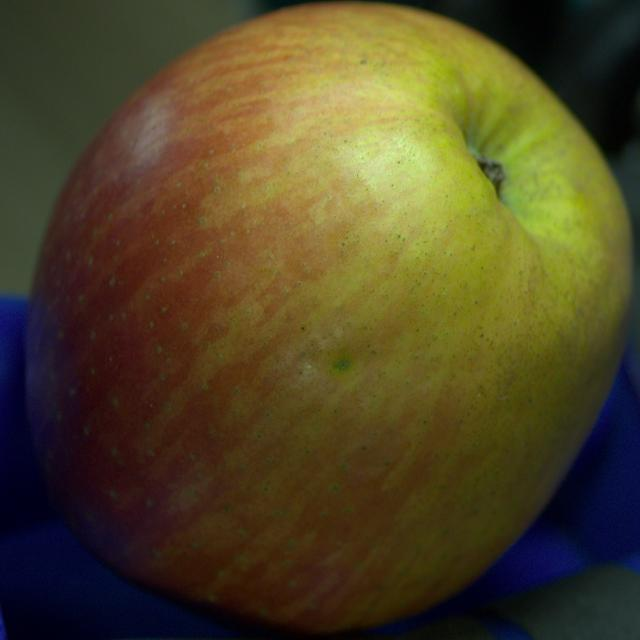apple: (24, 2, 631, 635)
